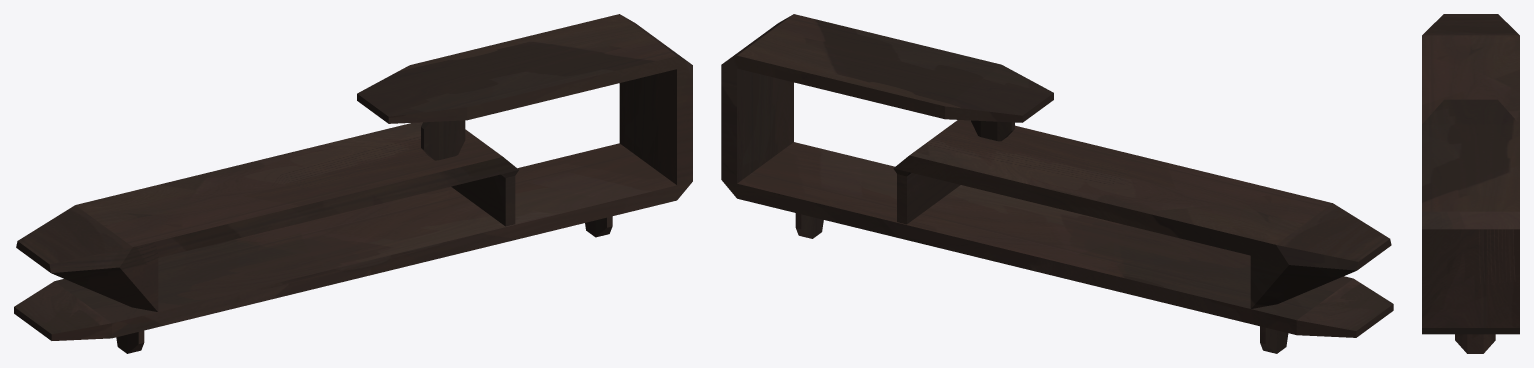
File: M-tvstand.fbx
3 views of the same model, side by side, from view 1: azimuth 30°, elevation 25°; view 2: azimuth 150°, elevation 25°; view 3: azimuth 270°, elevation 25° (orthographic). The views are drawn at different scales.
Visible parts, largest first — view 1: Cube; view 2: Cube; view 3: Cube.
Boxes of the visible parts, <box> form: Cube: <box>14,14,692,353</box>; Cube: <box>721,14,1393,353</box>; Cube: <box>1422,14,1519,353</box>.
Size of the model in its own units: 254 by 40 by 72.68.
1 material, 1 textured.
